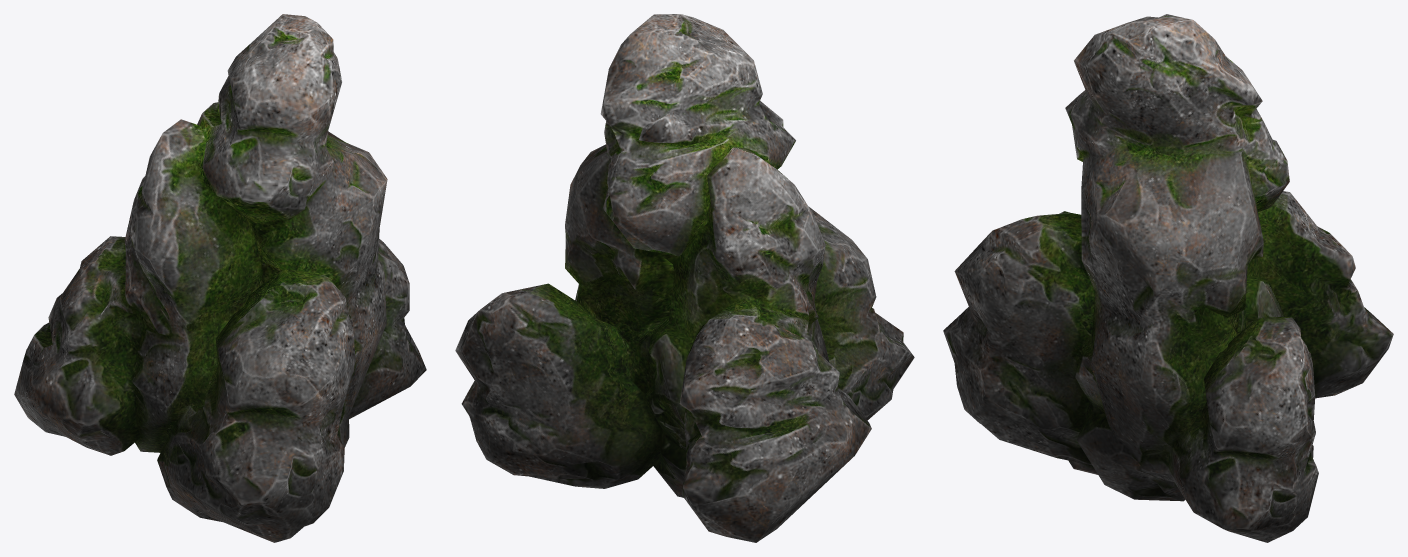
The model's file is breakable_rock.glb.
The picture shows the model from 3 angles, left to right: view 1: azimuth 30°, elevation 25°; view 2: azimuth 150°, elevation 25°; view 3: azimuth 270°, elevation 25°; orthographic projection. The views are drawn at different scales.
Parts seen in each view (by area): view 1: low.005; view 2: low.005; view 3: low.005.
Boxes of the visible parts, x1,y1,x2,y2 form: low.005: (14, 14, 426, 542); low.005: (455, 14, 914, 542); low.005: (943, 14, 1393, 542).
Bounding box in the file's own units: 2.55 × 3.01 × 2.48.
Materials: 1 (1 with a texture image).
